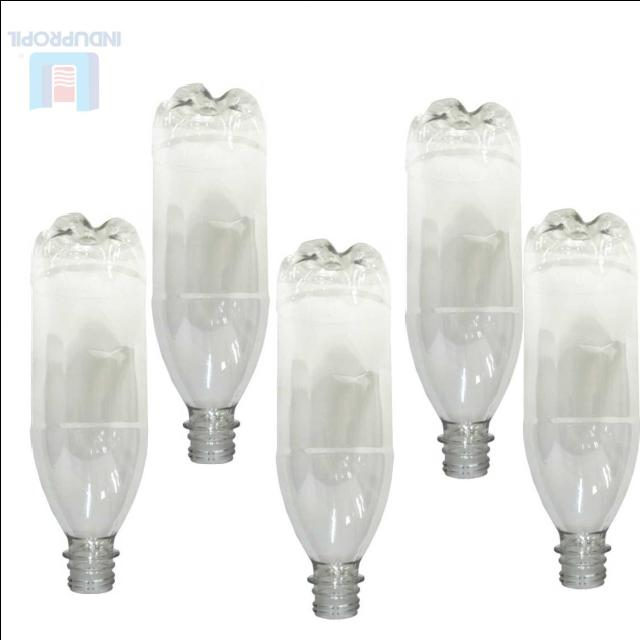bottle: (275, 239, 392, 617), (31, 213, 147, 593), (405, 99, 521, 477), (152, 84, 267, 463), (523, 209, 638, 587)
